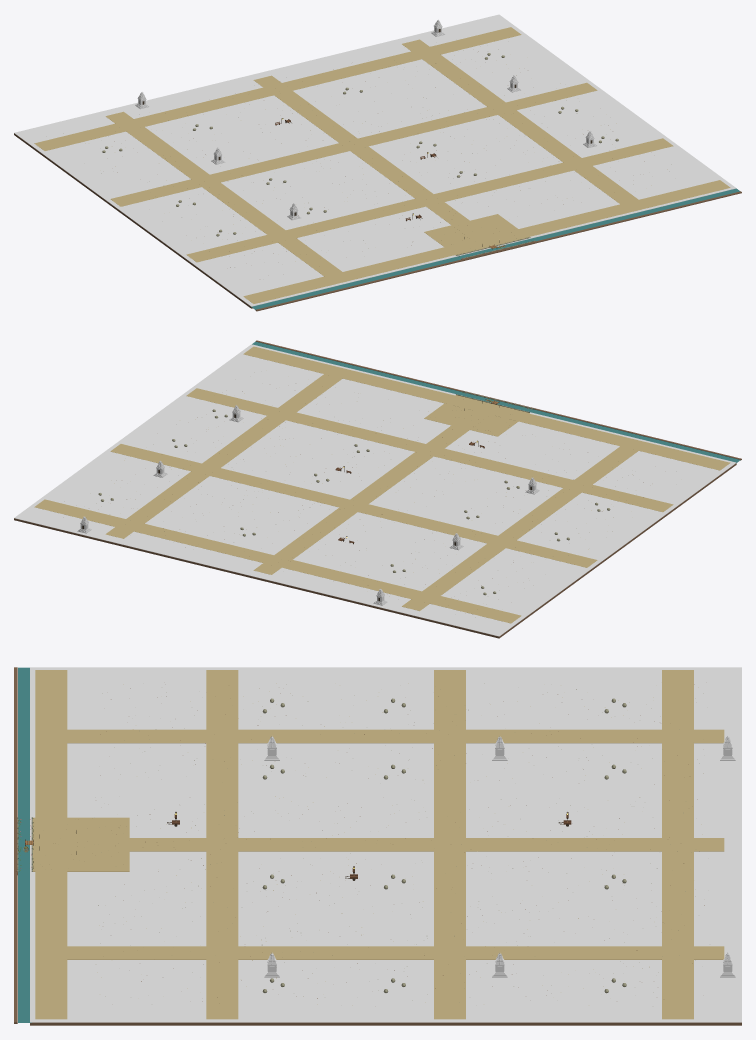
File: lavo-wilds.glb
The picture shows the model from 3 angles, top to bottom: view 1: azimuth 30°, elevation 25°; view 2: azimuth 150°, elevation 25°; view 3: azimuth 270°, elevation 25°; orthographic projection. The views are drawn at different scales.
Parts seen in each view (by area): view 1: Expanded ground · meadow, Regional avenues · sand, River extension · water, Far bank extension · earth, Terrain · sand, Lavo brick prang · brick, Expanded ground · earth; view 2: Expanded ground · meadow, Regional avenues · sand, Expanded ground · earth, River extension · water, Terrain · sand, Far bank extension · earth, Lavo brick prang · brick; view 3: Expanded ground · meadow, Regional avenues · sand, River extension · water, Expanded ground · earth, Terrain · sand, Lavo brick prang · brick, Far bank extension · earth, Forest boulders · stone, River · water.
Part boxes in pixels (<box>): Expanded ground · meadow: <box>14,14,736,306</box>; Regional avenues · sand: <box>34,27,730,303</box>; River extension · water: <box>251,188,739,309</box>; Far bank extension · earth: <box>255,191,741,311</box>; Terrain · sand: <box>424,214,528,255</box>; Lavo brick prang · brick: <box>135,19,597,220</box>; Expanded ground · earth: <box>14,133,252,308</box>; Expanded ground · meadow: <box>14,344,736,636</box>; Regional avenues · sand: <box>34,346,730,623</box>; Expanded ground · earth: <box>14,463,736,638</box>; River extension · water: <box>252,341,740,463</box>; Terrain · sand: <box>424,395,529,436</box>; Far bank extension · earth: <box>255,340,741,460</box>; Lavo brick prang · brick: <box>77,405,539,605</box>; Expanded ground · meadow: <box>30,667,741,1022</box>; Regional avenues · sand: <box>35,670,724,1019</box>; River extension · water: <box>18,667,31,1022</box>; Expanded ground · earth: <box>30,1022,741,1025</box>; Terrain · sand: <box>33,817,129,871</box>; Lavo brick prang · brick: <box>264,736,735,977</box>; Far bank extension · earth: <box>14,667,17,1023</box>; Forest boulders · stone: <box>262,698,626,993</box>; River · water: <box>18,818,29,872</box>.
Size of the model in its own units: 236 by 7.86 by 204.
